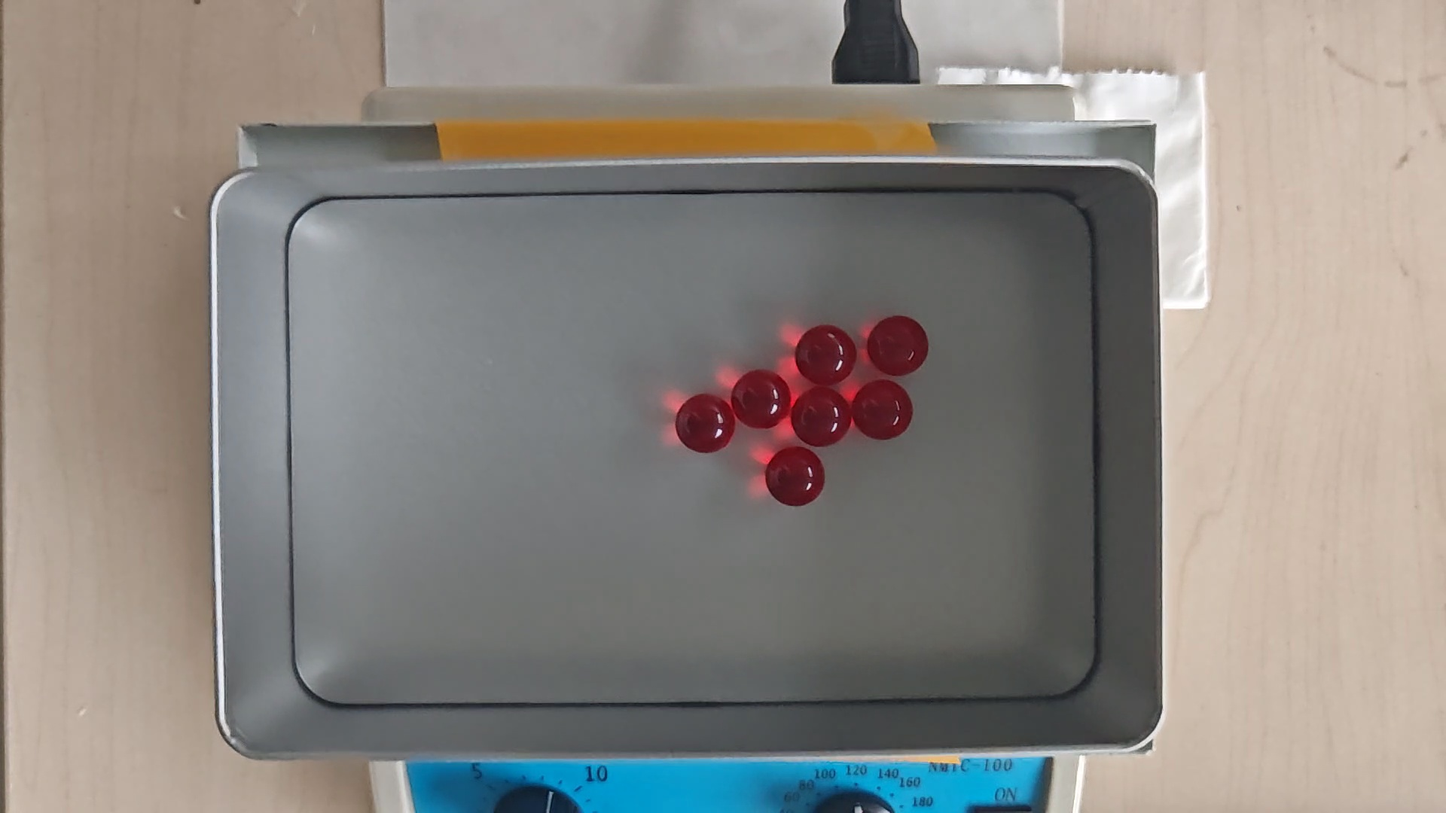ball: (853, 380, 914, 441), (796, 323, 855, 385), (869, 318, 929, 376), (677, 394, 735, 453), (734, 370, 790, 431), (794, 387, 850, 448), (768, 446, 823, 506)
container: (282, 192, 1096, 704)
